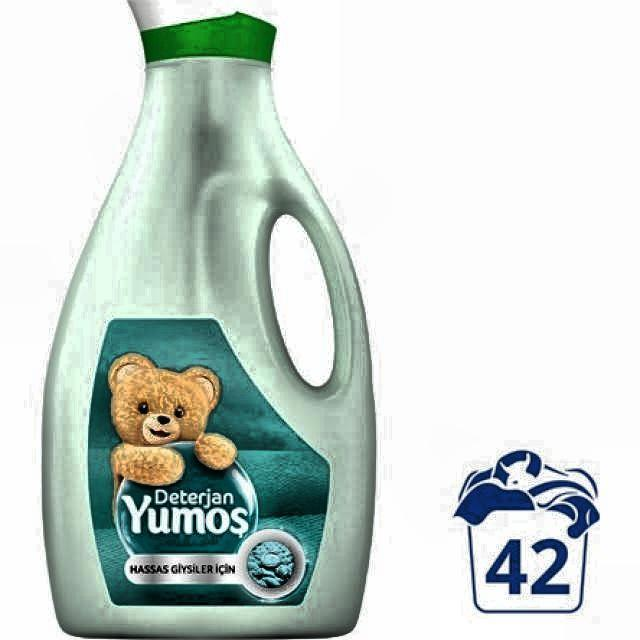plastic: (41, 0, 376, 640)
